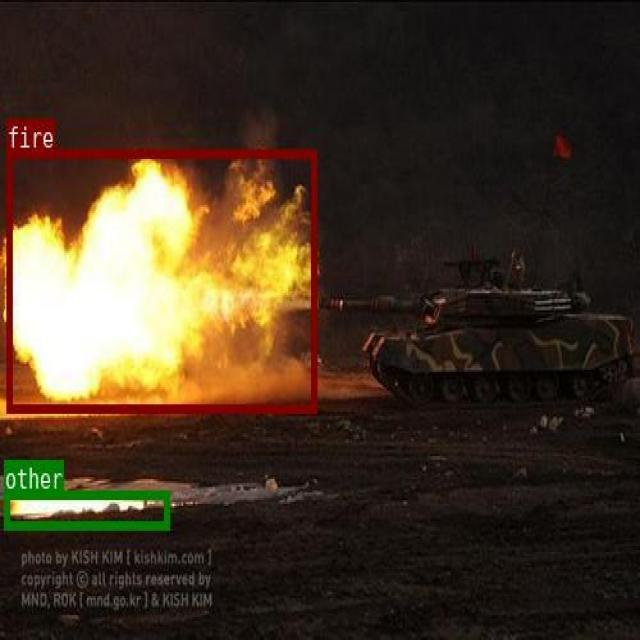fire: (6, 149, 316, 412)
